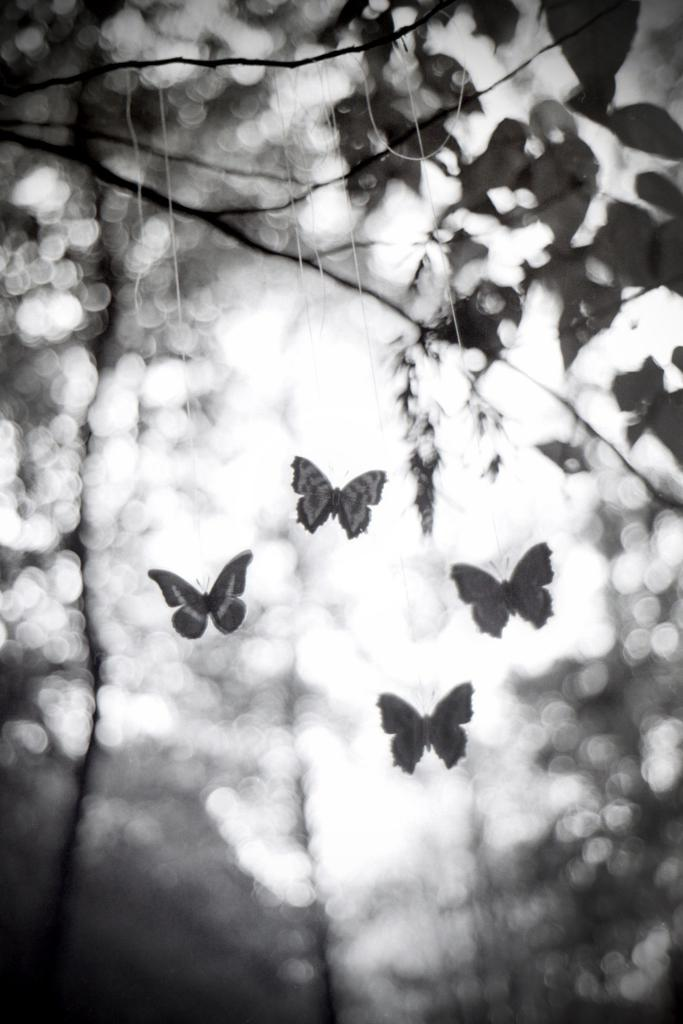Butterfly: (451, 537, 577, 649), (127, 552, 272, 644), (363, 674, 487, 781), (274, 447, 395, 542)
